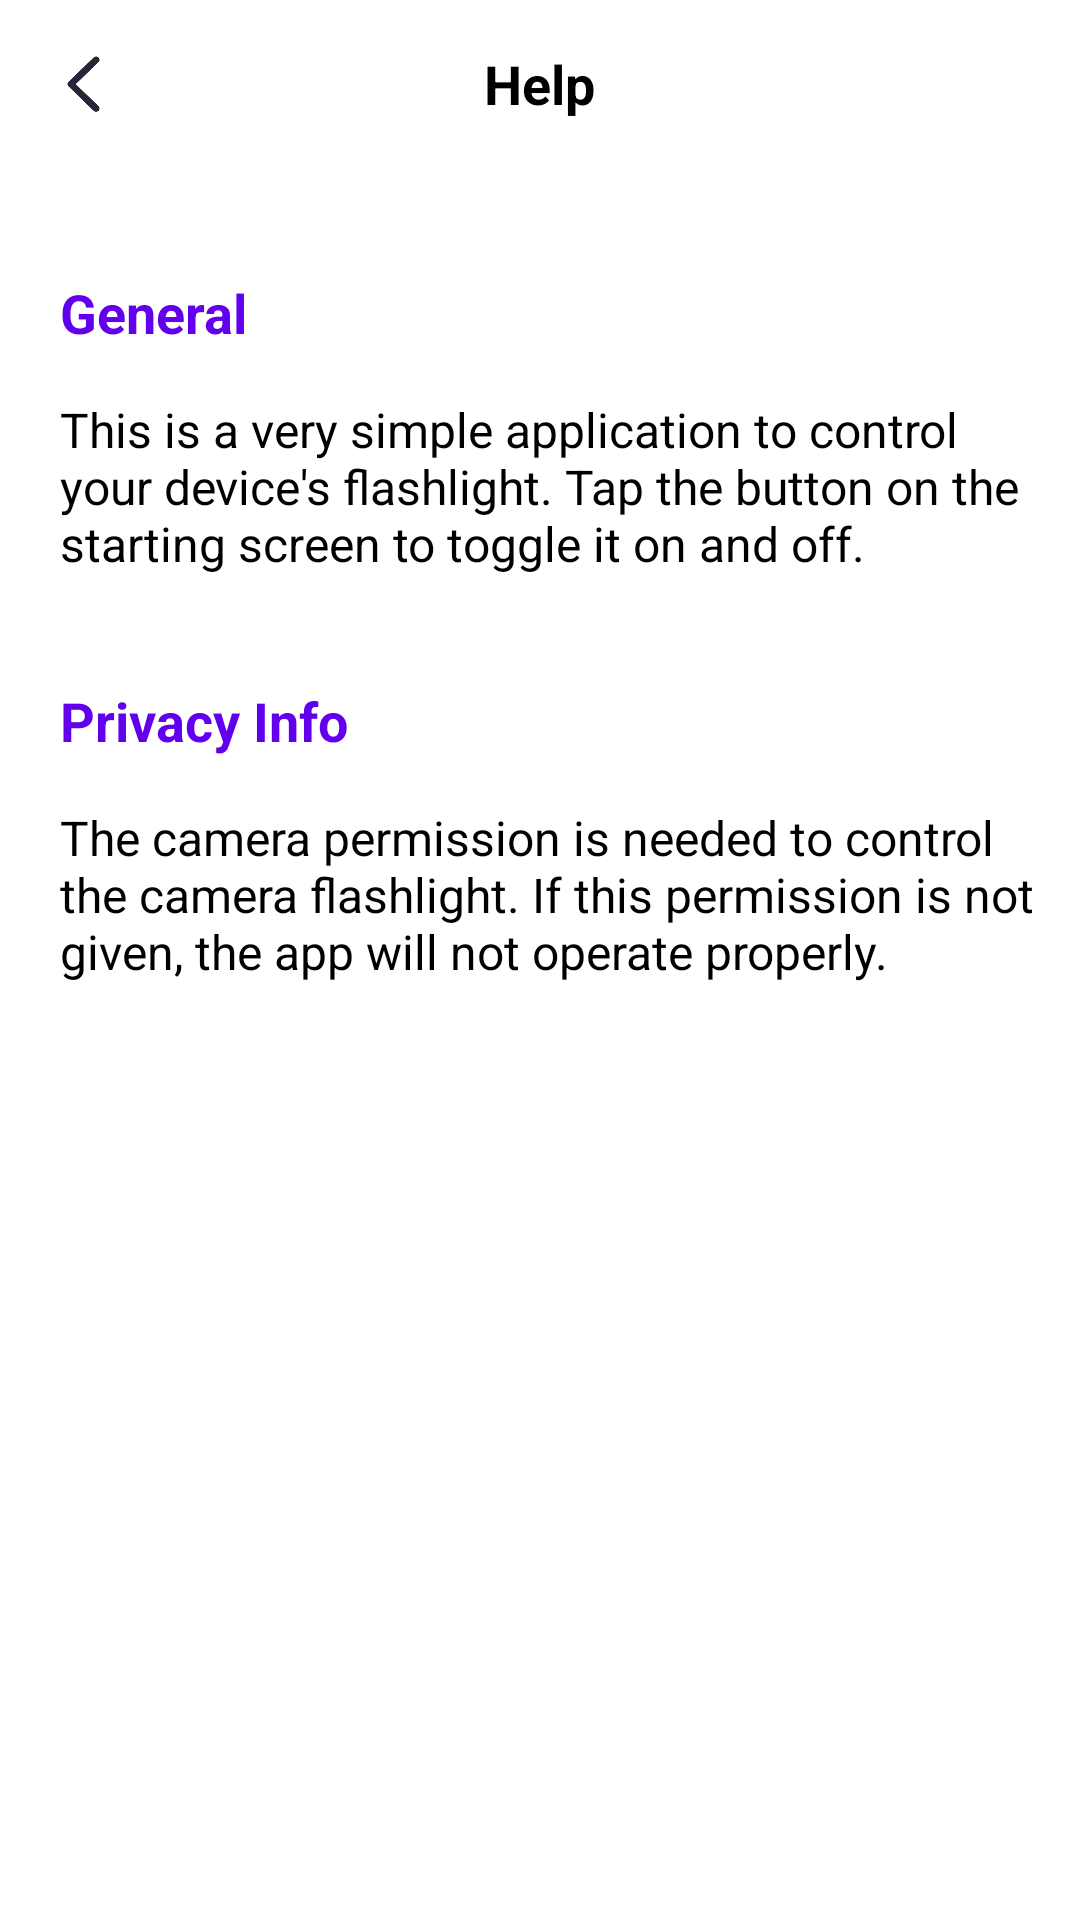

Named icons in this screenshot (1080px x 1920px) and their centers, (x=x, y=y):
back: (x=83, y=84)
